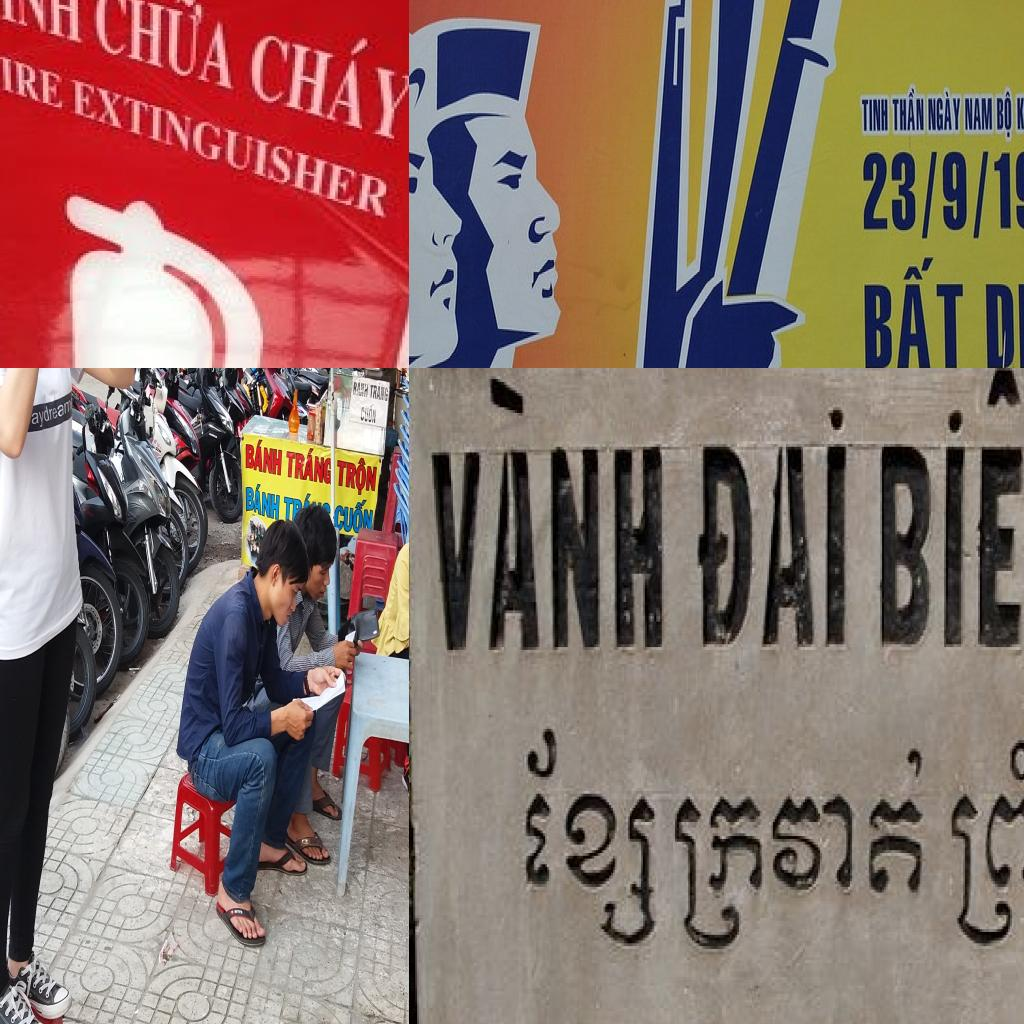text: (421, 368, 669, 664), (870, 368, 1024, 661), (692, 399, 854, 658), (244, 13, 409, 150), (88, 0, 238, 100), (861, 150, 1024, 242), (67, 74, 225, 168), (862, 255, 966, 368), (0, 42, 70, 115), (0, 0, 91, 52), (334, 450, 379, 500), (333, 492, 375, 538), (284, 444, 326, 488), (243, 434, 283, 480), (892, 84, 926, 136), (244, 477, 281, 523), (30, 395, 72, 434), (927, 89, 963, 134), (860, 96, 890, 136), (964, 96, 994, 132), (996, 88, 1014, 142), (359, 401, 378, 426), (368, 381, 389, 403), (352, 377, 370, 400), (282, 493, 294, 524), (138, 496, 151, 514), (208, 431, 218, 441), (234, 909, 244, 916), (155, 445, 162, 455), (407, 772, 409, 785)
